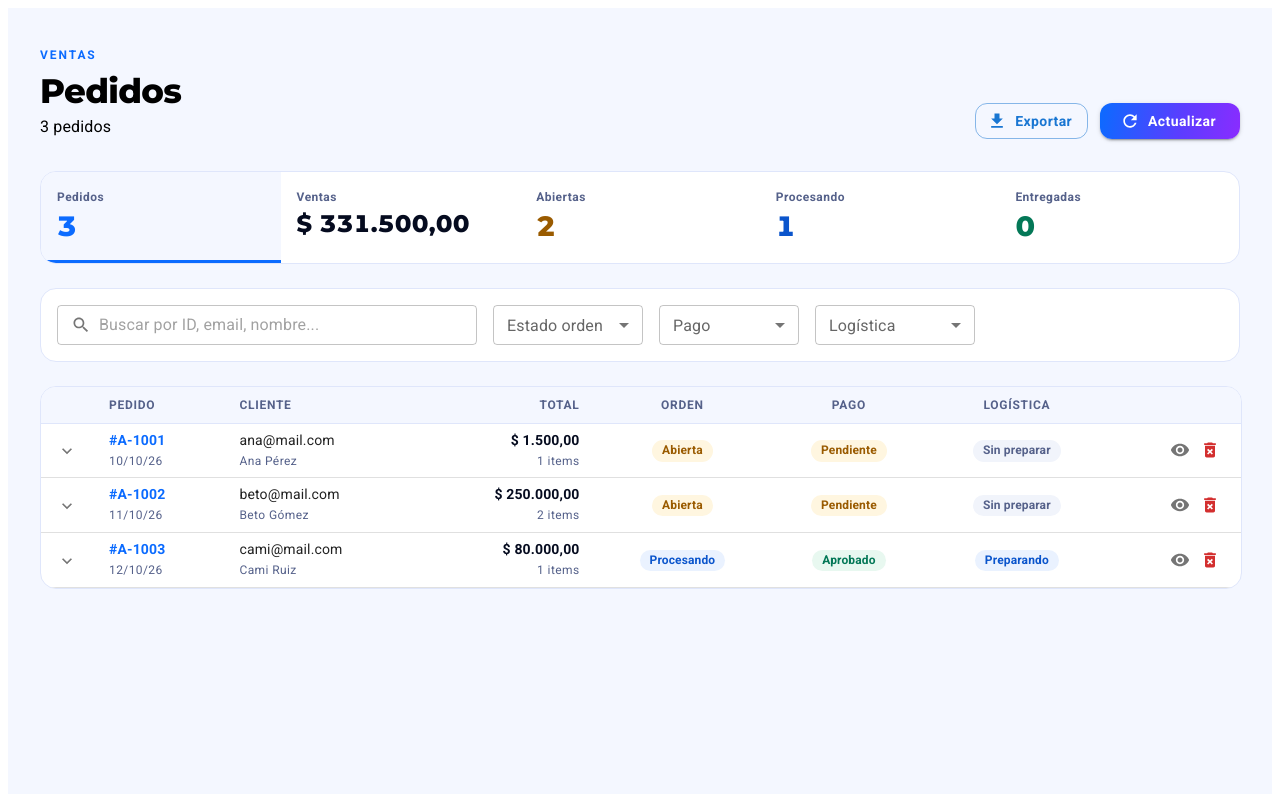
Test case: Pedidos · detalle de un pedido › muestra el SKU, la cantidad y el subtotal de cada línea
The image size is (1280, 794).
Click the text "#A-1001" at (137, 440), box 109,432 -> 165,448
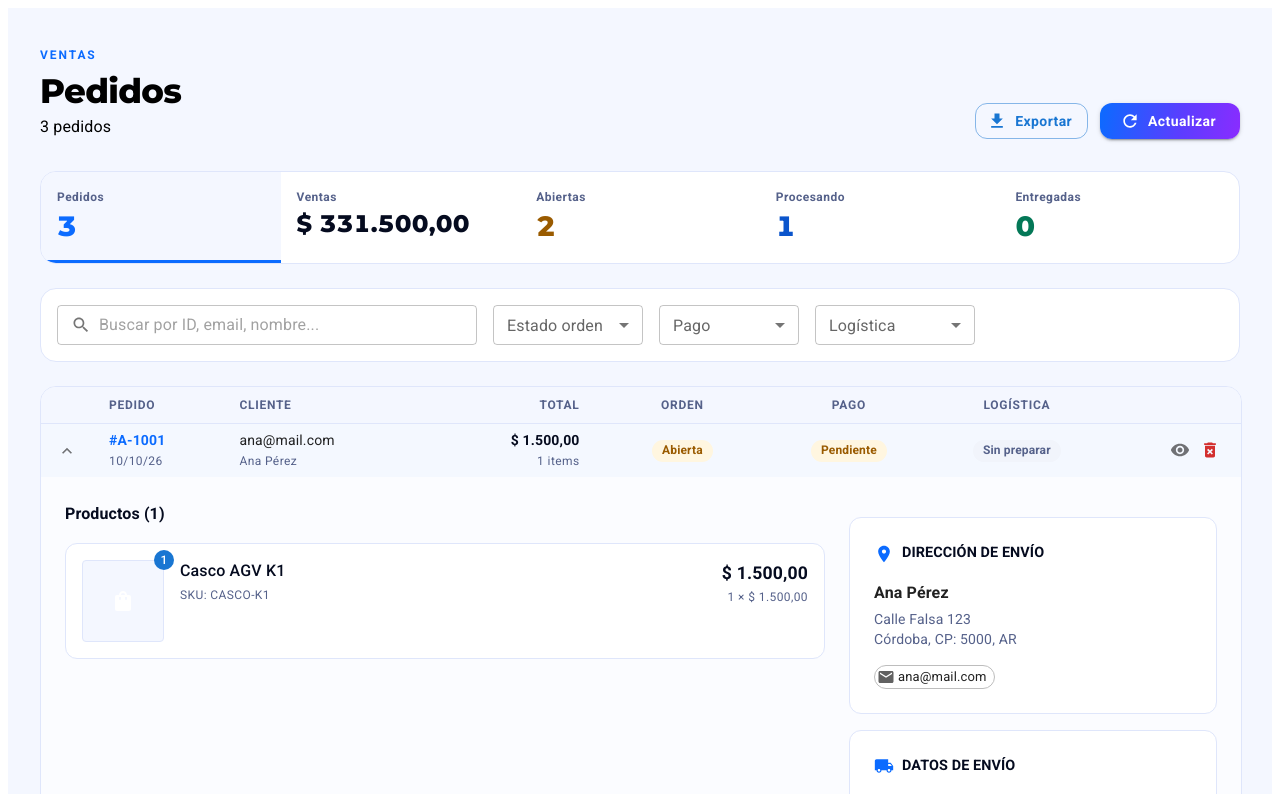
Result: the text "SKU: CASCO-K1" is shown at 180,588 -> 270,602
Result: the text "1 × $ 1.500,00" is shown at 728,590 -> 808,604
